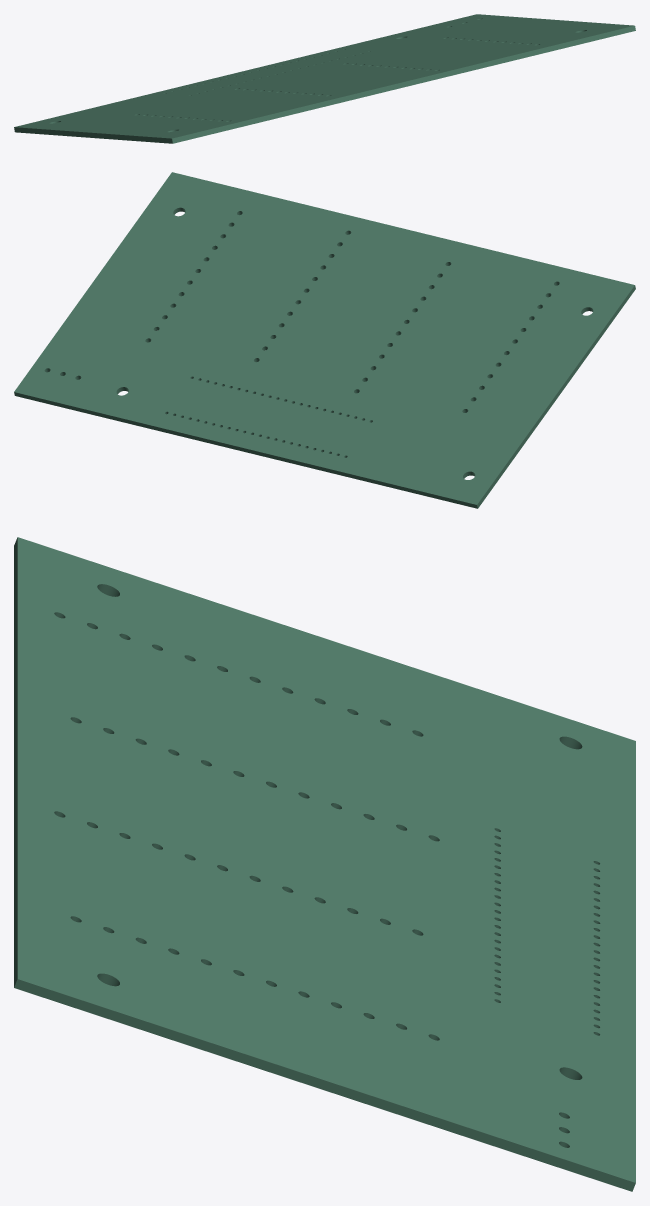
The model's file is EBoxNewAsm_stp_1_UTeensyBreakout_1_stp_1_TeensyBreakout_PCB_stp_1_solid1.obj.
3 views of the same model, one above another, from view 1: azimuth 30°, elevation 25°; view 2: azimuth 150°, elevation 25°; view 3: azimuth 270°, elevation 25° (orthographic). The views are drawn at different scales.
Visible parts, largest first — view 1: mesh11565, mesh11568, mesh11566; view 2: mesh11565, mesh11567, mesh11566; view 3: mesh11565, mesh11569, mesh11568.
Part boxes in pixels (box(x1,y1,x2,y2)): mesh11565: box(14, 14, 633, 138); mesh11568: box(172, 25, 635, 143); mesh11566: box(14, 127, 172, 143); mesh11565: box(14, 172, 634, 504); mesh11567: box(14, 392, 477, 508); mesh11566: box(477, 285, 635, 508); mesh11565: box(17, 537, 635, 1182); mesh11569: box(14, 979, 635, 1191); mesh11568: box(14, 537, 17, 987).
Bounding box in the file's own units: 0.151 × 0.0339 × 0.0898.
